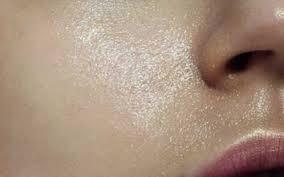Oily-Skin: (34, 24, 244, 122)
